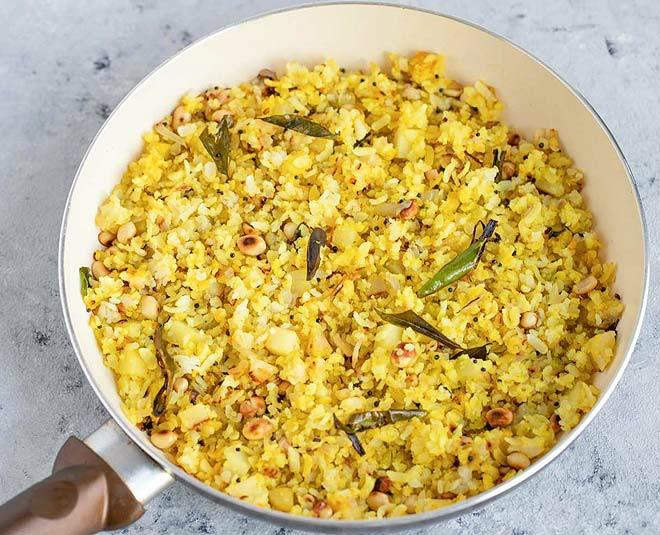Poha: (92, 36, 629, 519)
